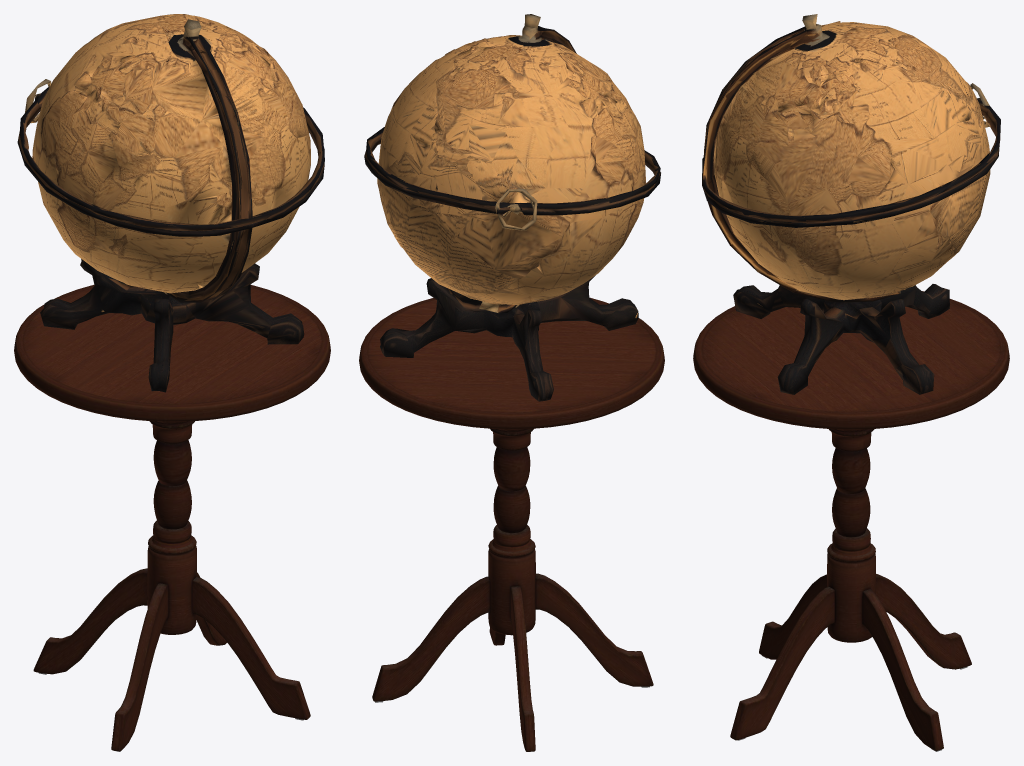
File: globe.glb
3 views of the same model, side by side, from view 1: azimuth 30°, elevation 25°; view 2: azimuth 150°, elevation 25°; view 3: azimuth 270°, elevation 25° (orthographic). The views are drawn at different scales.
Visible parts, largest first — view 1: globe_top, globe_base; view 2: globe_top, globe_base; view 3: globe_top, globe_base.
Part boxes in pixels (x1,y1,x2,y2): globe_top: [17, 14, 324, 392]; globe_base: [14, 285, 330, 751]; globe_top: [364, 14, 660, 401]; globe_base: [359, 297, 664, 751]; globe_top: [702, 14, 1000, 394]; globe_base: [693, 291, 1009, 751].
Bounding box in the file's own units: 0.5399 × 1.3 × 0.5399.
Materials: 2 (2 with a texture image).
